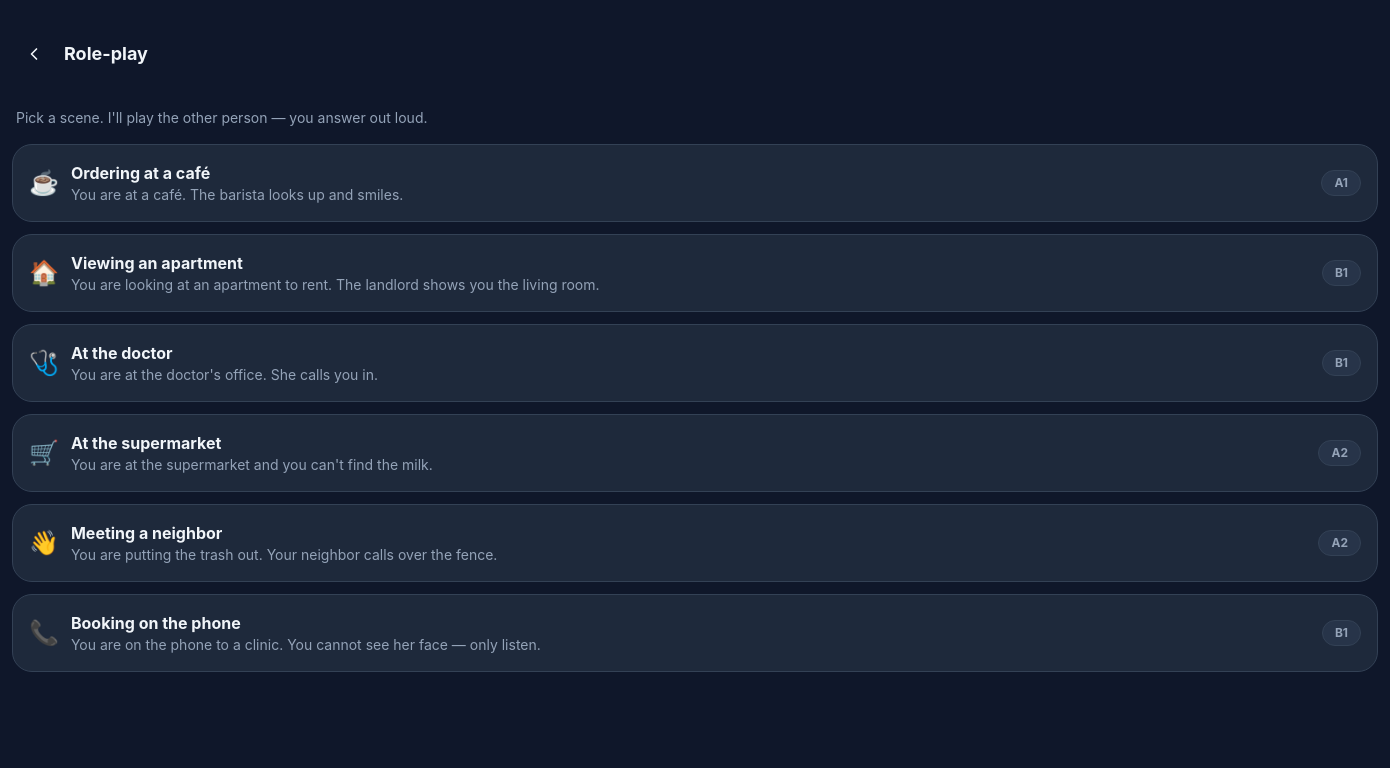
Test case: Role-play, one scene through to the end › plays the first line, waits for her, and advances when she says it
The width and height of the screenshot is (1390, 768).
Click the button with test id "roleplay-cafe": {"x": 141, "y": 173} x1=12 y1=144 x2=1378 y2=222
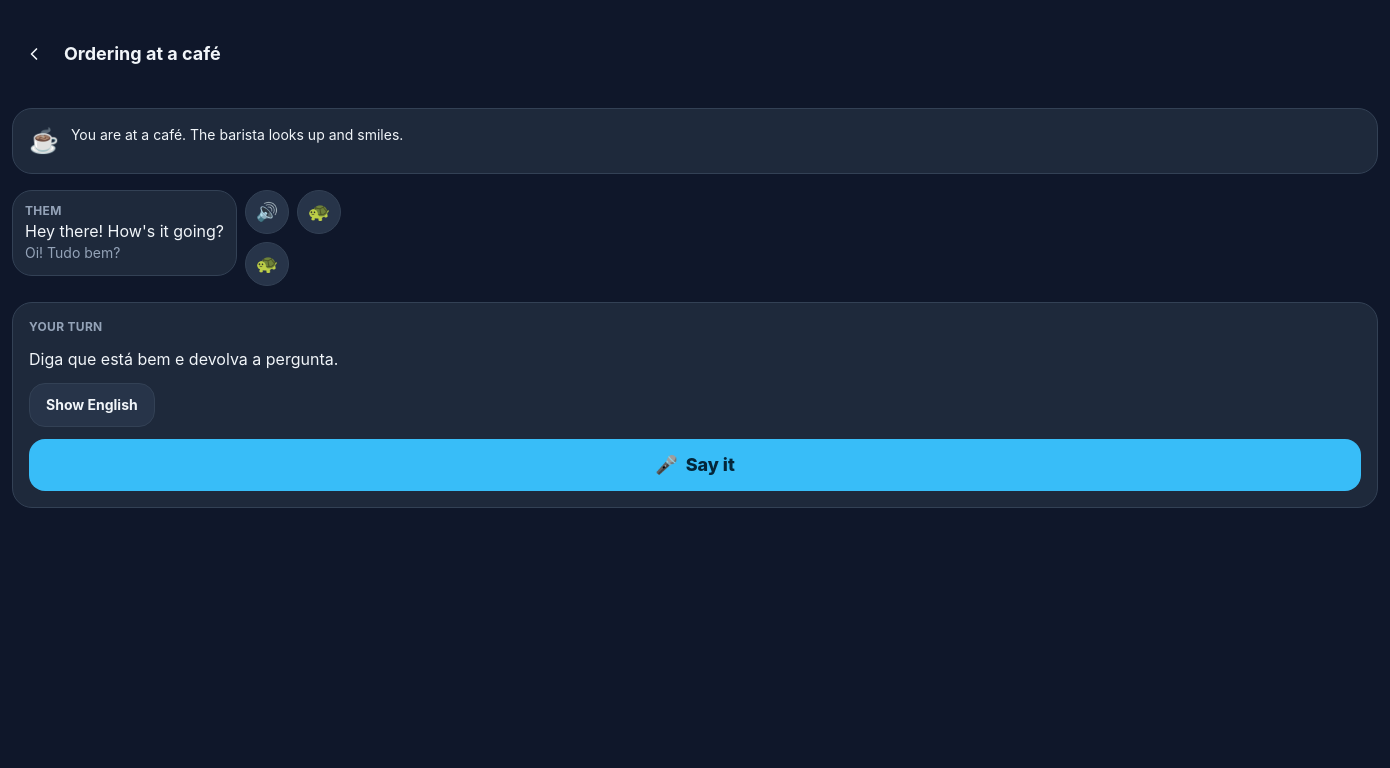
Check: the text "Hey there! How's it going?" is shown, box x1=25 y1=219 x2=224 y2=243
Check: the text "Diga que está bem e devolva a pergunta." is shown, box x1=29 y1=349 x2=338 y2=369
Click the button with test id "roleplay-say": {"x": 695, "y": 465} x1=29 y1=439 x2=1361 y2=491
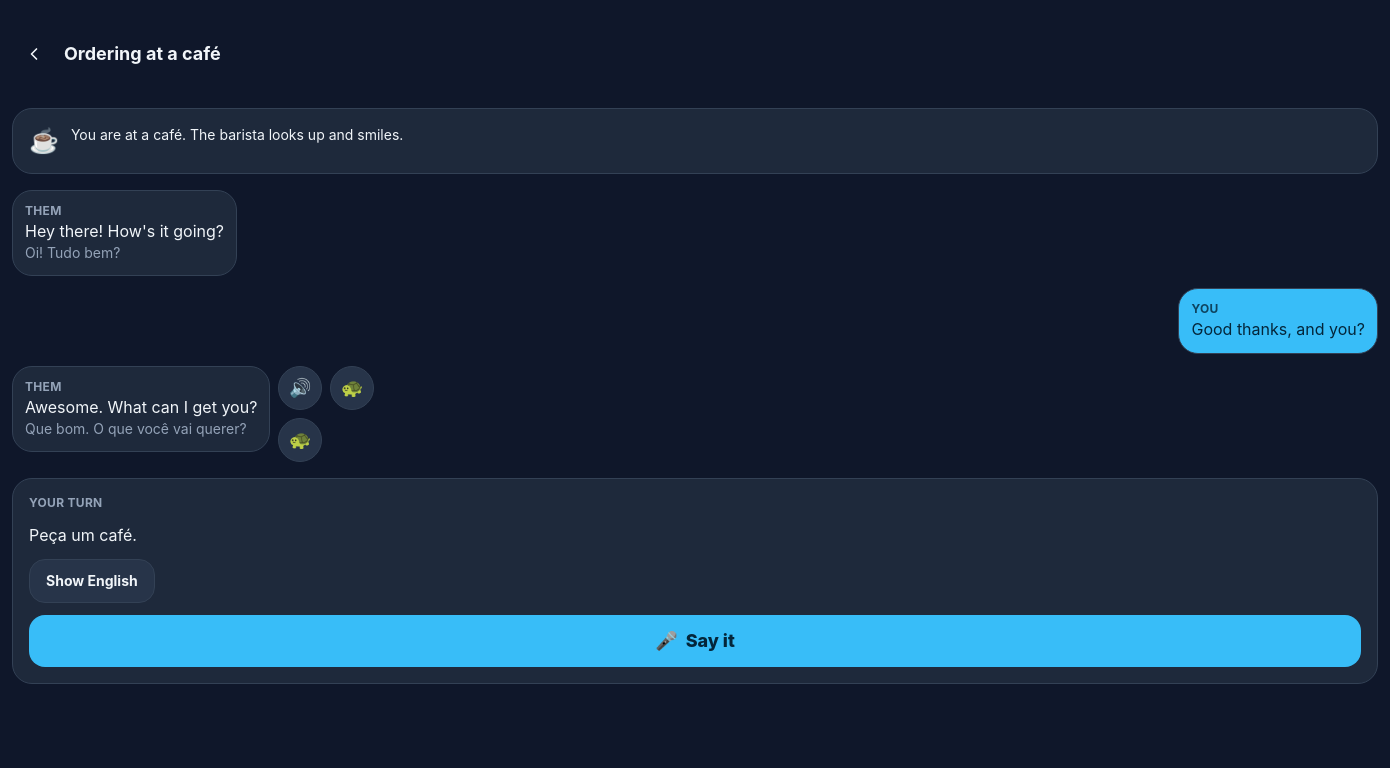
Check: the text "Awesome. What can I get you?" is shown, box x1=25 y1=395 x2=257 y2=419
